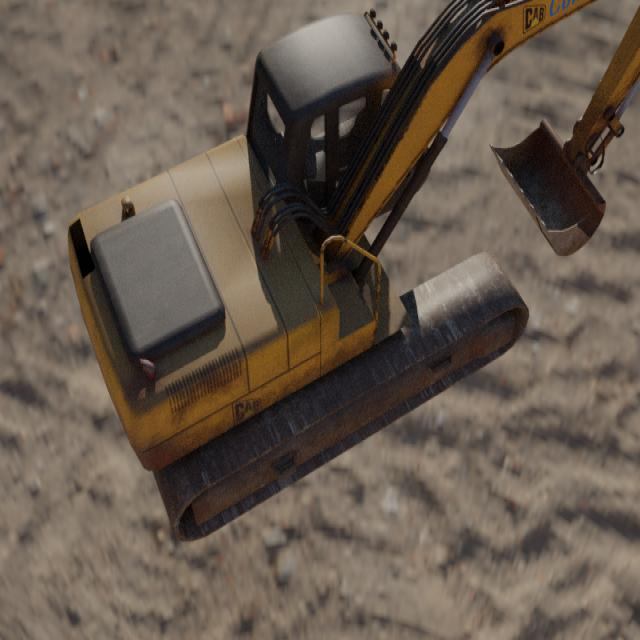excavator: (66, 0, 640, 543)
